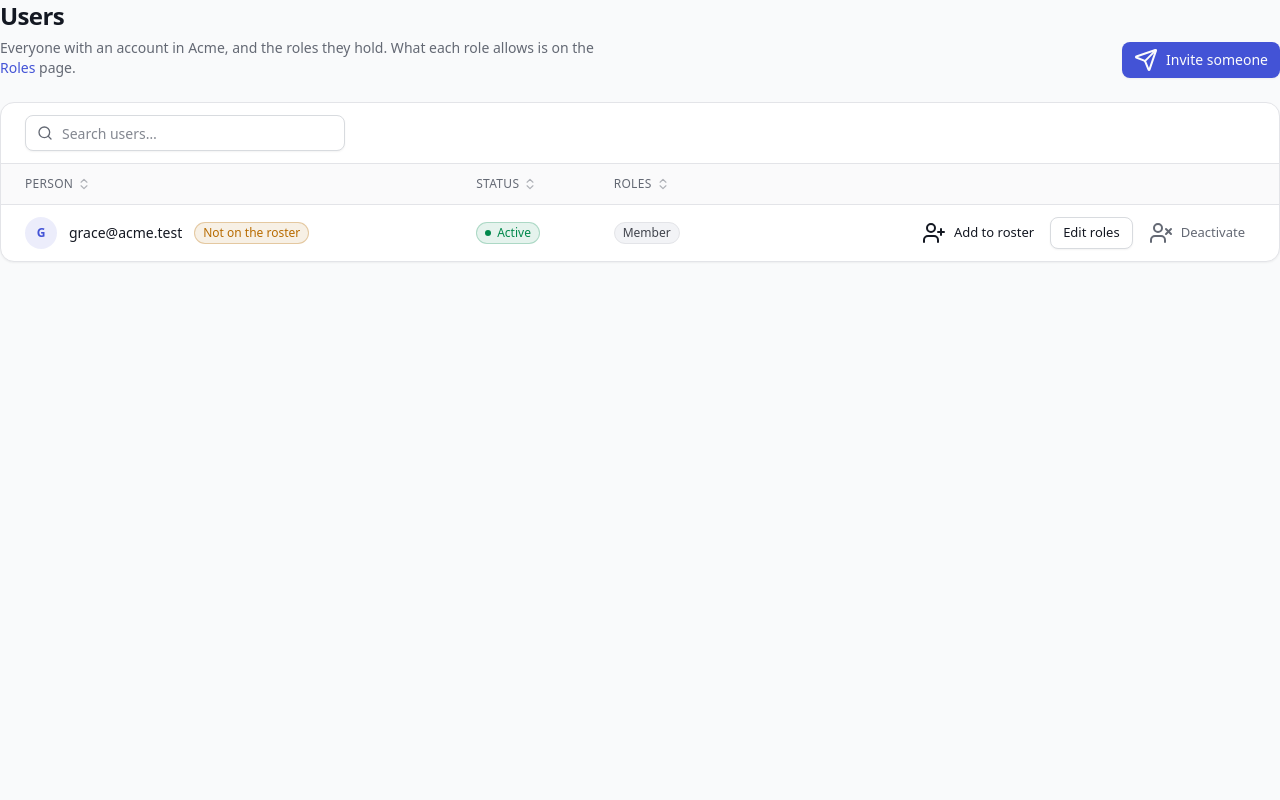
Scenario: users page › puts an account that is not on the roster onto it
Check: the text "Not on the roster" is shown, box [194,222,309,244]
Click the button with aria-label "Add grace@acme.test to the roster" at (978, 232), box [912,216,1044,248]
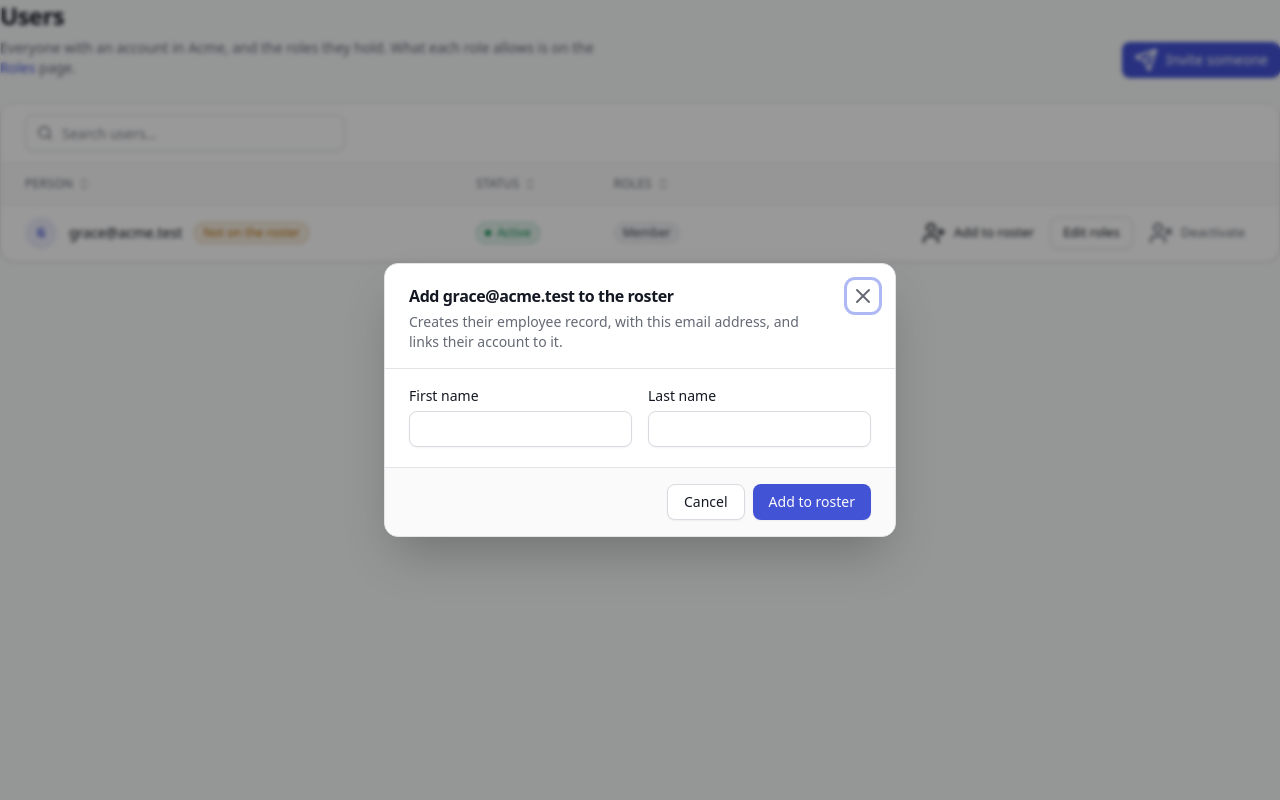
Type "Grace" into the field labelled "First name" at (520, 429), box [409,411,632,447]
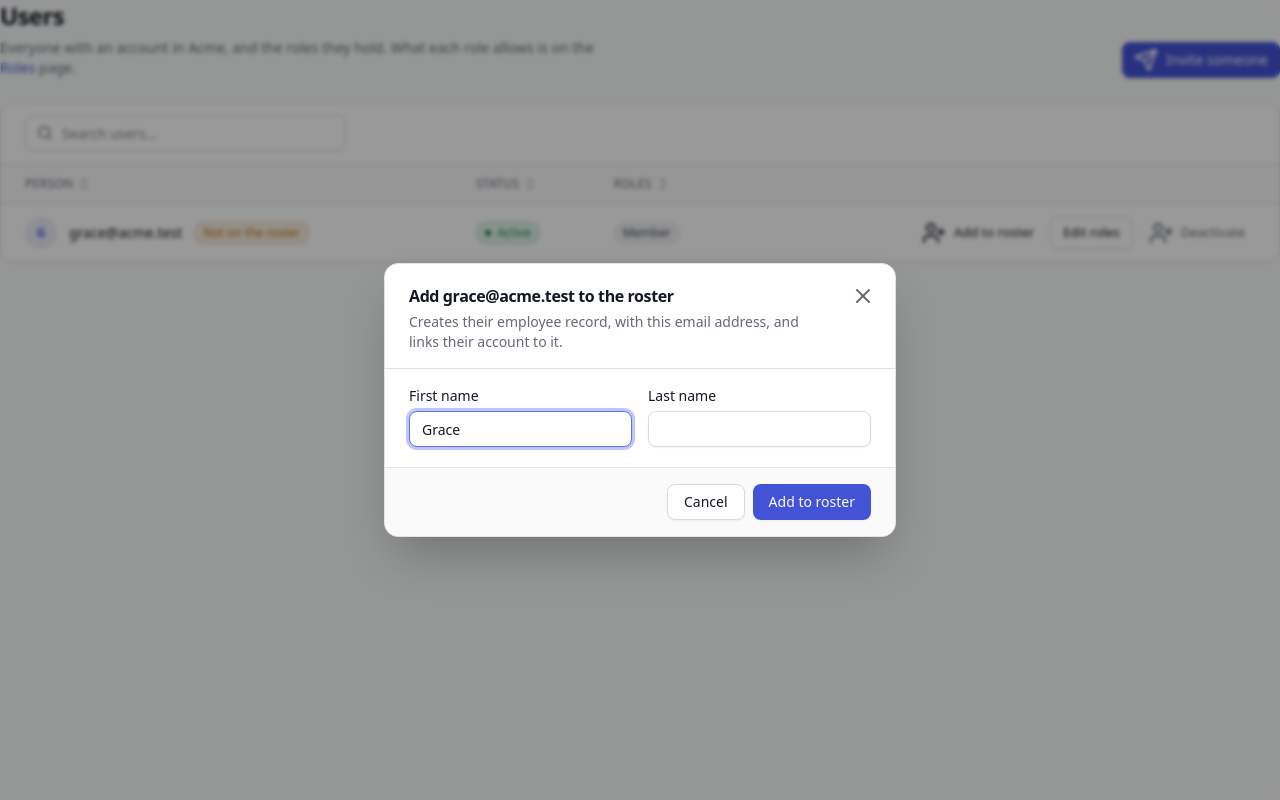
Type "Hopper" into the field labelled "Last name" at (760, 429), box [648,411,871,447]
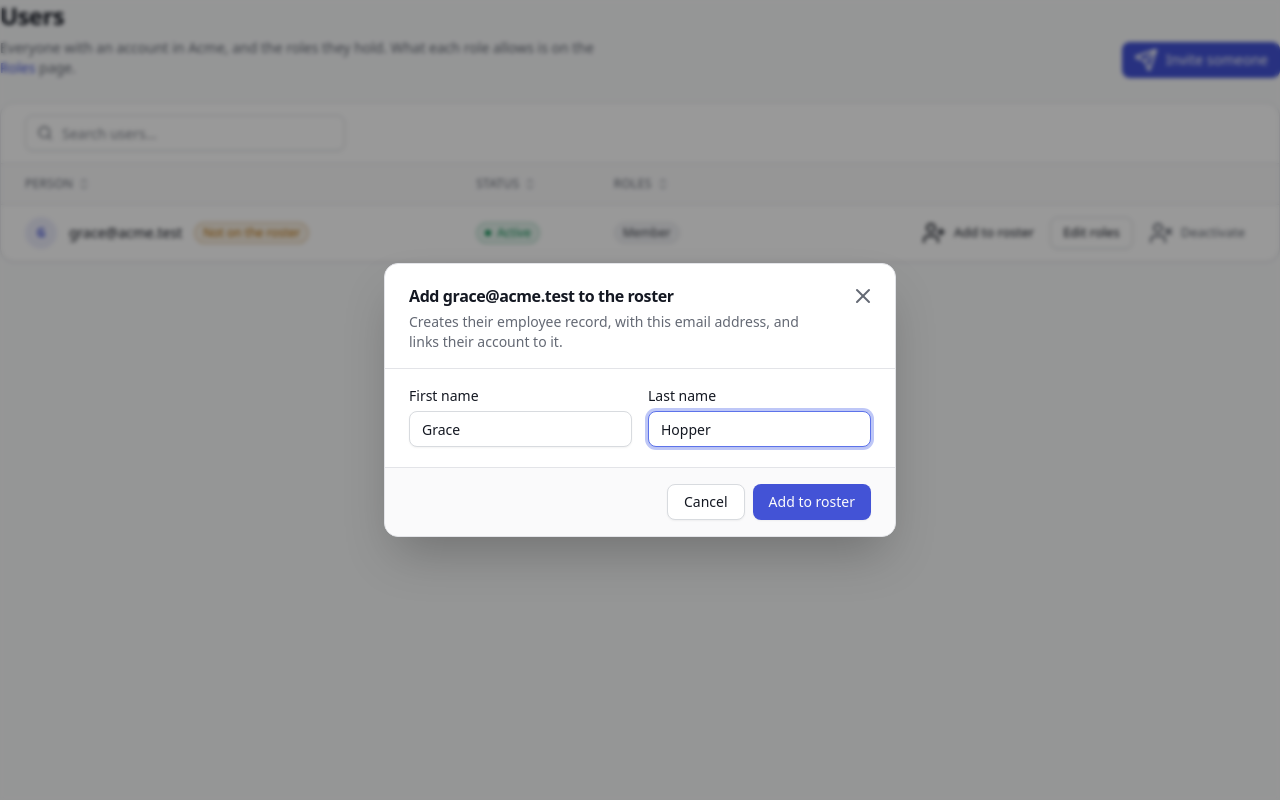
Click the button "Add to roster" at (812, 502), box [753,484,871,520]
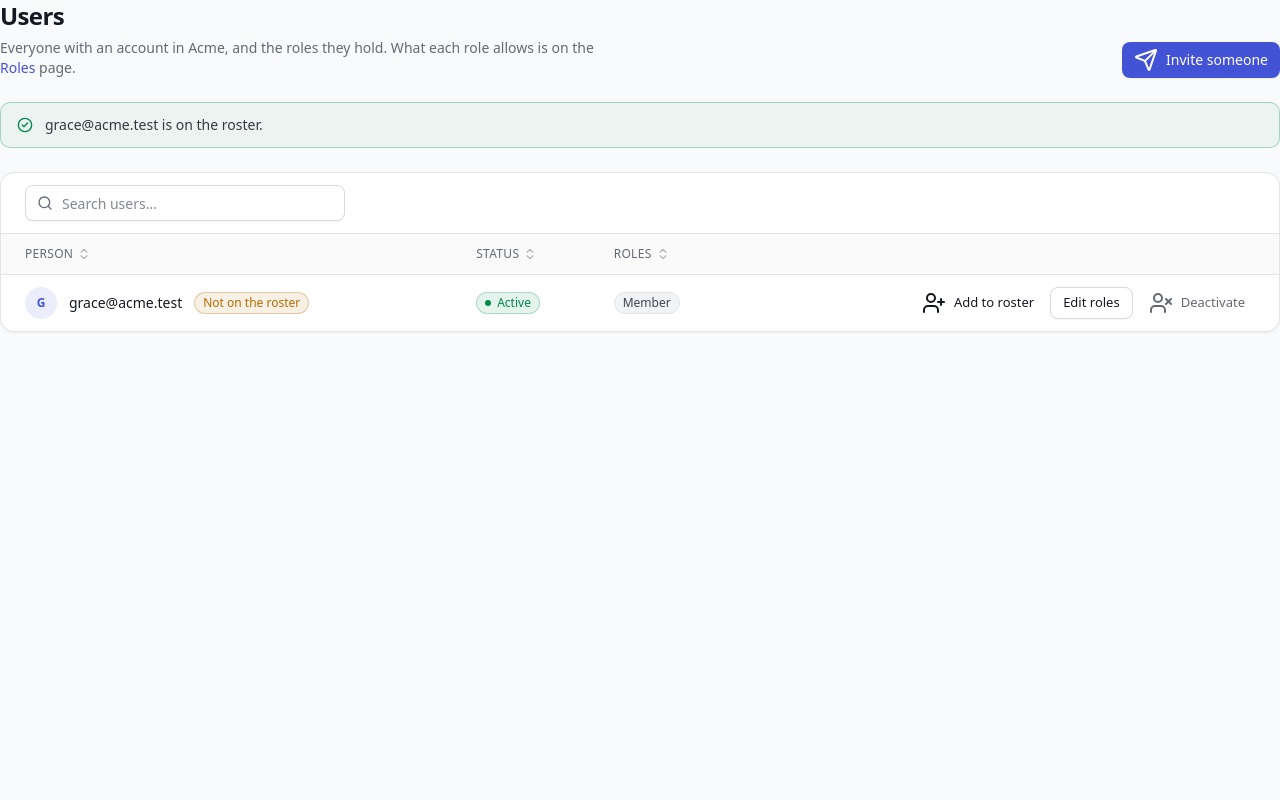
Check: the text "grace@acme.test is on the roster." is shown, box [45,115,263,135]
